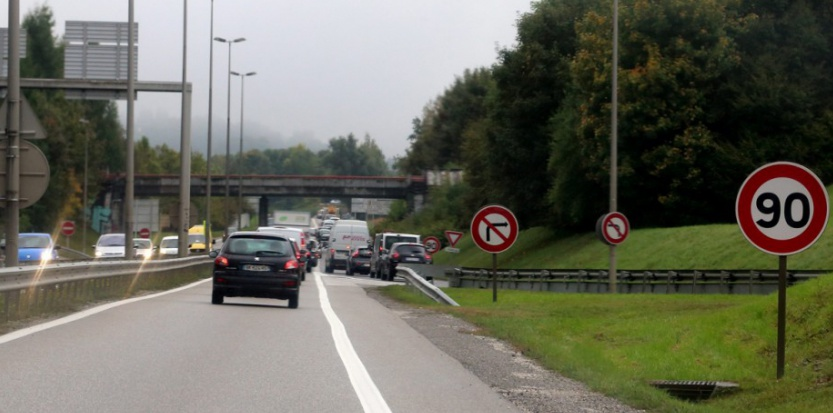Speed_limit_90km: (733, 157, 829, 253)
car: (206, 227, 306, 317)
